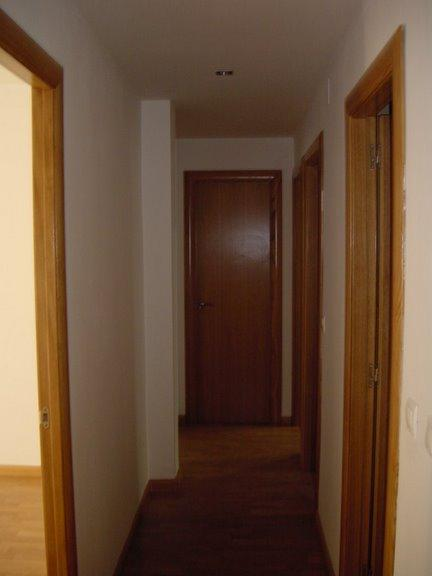Puerta: (183, 173, 279, 421)
